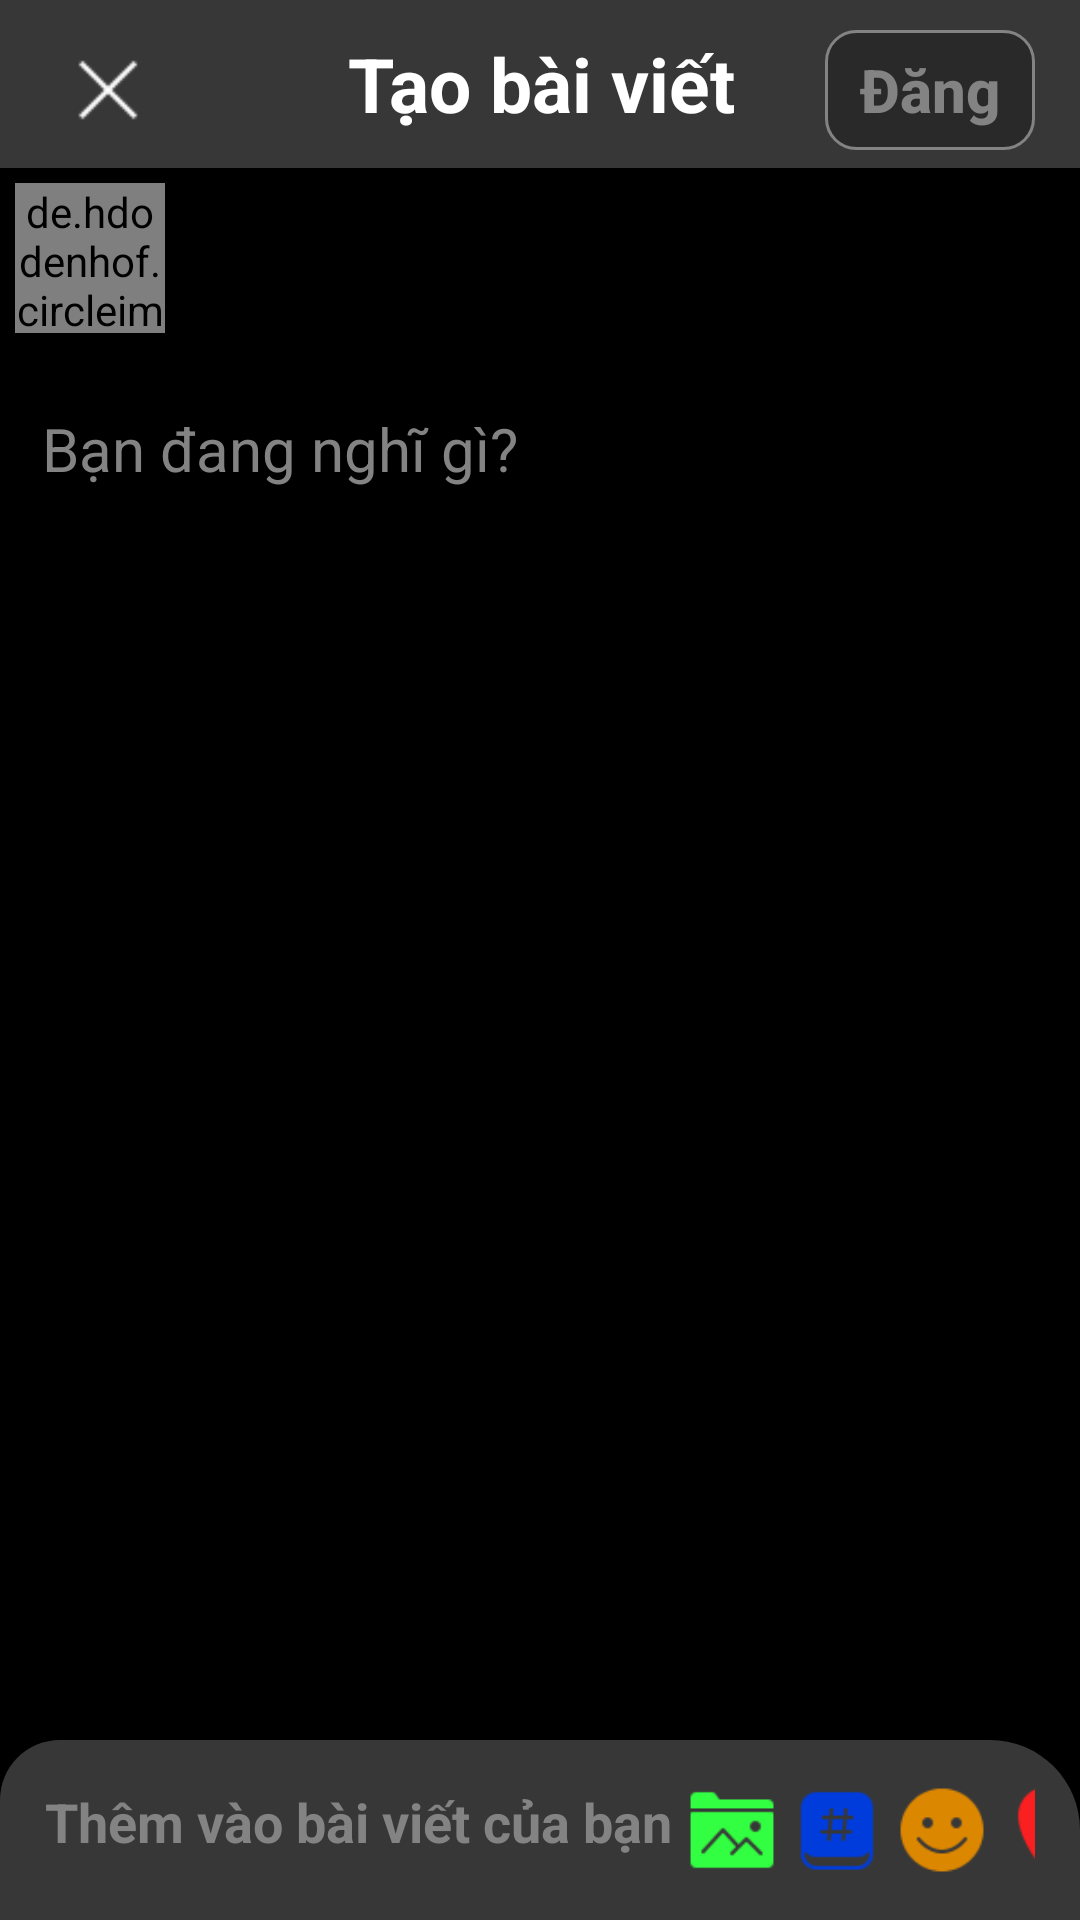

Locate icon controls on the screen. Image size 1080 x 1920, boxes as (x1, y1, x2, y2).
addphoto: (690, 1792, 774, 1868)
close: (78, 60, 138, 120)
emoji: (900, 1788, 984, 1872)
tag: (800, 1792, 874, 1870)
